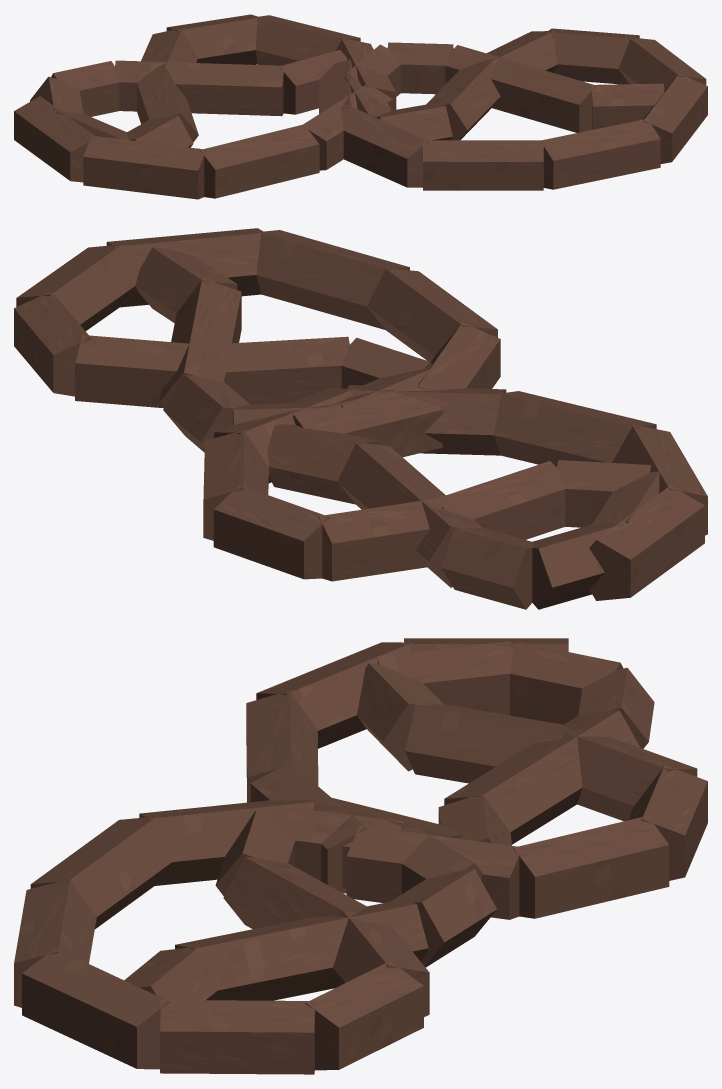
The model's file is chocpretzels.glb.
3 renders of one model, top to bottom at view 1: azimuth 30°, elevation 25°; view 2: azimuth 150°, elevation 25°; view 3: azimuth 270°, elevation 25°, orthographic. The views are drawn at different scales.
Parts seen in each view (by area): view 1: block_bent chocolate-coated pretzel twist 13 (×2), block_bent chocolate-coated pretzel twist 2 (×2), block_bent chocolate-coated pretzel twist 1 (×2), block_bent chocolate-coated pretzel twist 3 (×2), block_bent chocolate-coated pretzel twist 6 (×2), block_bent chocolate-coated pretzel twist 5 (×2), block_bent chocolate-coated pretzel twist 8 (×2), block_bent chocolate-coated pretzel twist 0 (×2), block_bent chocolate-coated pretzel twist 14 (×2), block_bent chocolate-coated pretzel twist 12 (×2), block_bent chocolate-coated pretzel twist 4 (×2), block_bent chocolate-coated pretzel twist 9 (×2) (+3 smaller); view 2: block_bent chocolate-coated pretzel twist 2 (×2), block_bent chocolate-coated pretzel twist 0 (×2), block_bent chocolate-coated pretzel twist 7 (×2), block_bent chocolate-coated pretzel twist 8 (×2), block_bent chocolate-coated pretzel twist 3 (×2), block_bent chocolate-coated pretzel twist 6 (×2), block_bent chocolate-coated pretzel twist 13 (×2), block_bent chocolate-coated pretzel twist 12 (×2), block_bent chocolate-coated pretzel twist 5 (×2), block_bent chocolate-coated pretzel twist 14 (×2), block_bent chocolate-coated pretzel twist 1 (×2), block_bent chocolate-coated pretzel twist 4 (×2) (+3 smaller); view 3: block_bent chocolate-coated pretzel twist 5 (×2), block_bent chocolate-coated pretzel twist 13 (×2), block_bent chocolate-coated pretzel twist 4 (×2), block_bent chocolate-coated pretzel twist 8 (×2), block_bent chocolate-coated pretzel twist 6 (×2), block_bent chocolate-coated pretzel twist 2 (×2), block_bent chocolate-coated pretzel twist 1 (×2), block_bent chocolate-coated pretzel twist 7 (×2), block_bent chocolate-coated pretzel twist 10 (×2), block_bent chocolate-coated pretzel twist 3 (×2), block_bent chocolate-coated pretzel twist 12 (×2), block_bent chocolate-coated pretzel twist 11 (×2) (+3 smaller).
Boxes of the visible parts, x1=… form: block_bent chocolate-coated pretzel twist 13 (×2): x1=115, y1=45, x2=596, y2=132; block_bent chocolate-coated pretzel twist 2 (×2): x1=200, y1=124, x2=543, y2=198; block_bent chocolate-coated pretzel twist 1 (×2): x1=83, y1=105, x2=429, y2=199; block_bent chocolate-coated pretzel twist 3 (×2): x1=301, y1=83, x2=660, y2=189; block_bent chocolate-coated pretzel twist 6 (×2): x1=166, y1=14, x2=639, y2=84; block_bent chocolate-coated pretzel twist 5 (×2): x1=254, y1=15, x2=706, y2=90; block_bent chocolate-coated pretzel twist 8 (×2): x1=137, y1=60, x2=500, y2=142; block_bent chocolate-coated pretzel twist 0 (×2): x1=14, y1=59, x2=352, y2=182; block_bent chocolate-coated pretzel twist 14 (×2): x1=279, y1=50, x2=664, y2=129; block_bent chocolate-coated pretzel twist 12 (×2): x1=51, y1=42, x2=453, y2=116; block_bent chocolate-coated pretzel twist 4 (×2): x1=335, y1=38, x2=707, y2=163; block_bent chocolate-coated pretzel twist 9 (×2): x1=127, y1=104, x2=452, y2=147; block_bent chocolate-coated pretzel twist 2 (×2): x1=367, y1=268, x2=656, y2=467; block_bent chocolate-coated pretzel twist 0 (×2): x1=293, y1=383, x2=704, y2=600; block_bent chocolate-coated pretzel twist 7 (×2): x1=75, y1=335, x2=442, y2=581; block_bent chocolate-coated pretzel twist 8 (×2): x1=202, y1=336, x2=565, y2=539; block_bent chocolate-coated pretzel twist 3 (×2): x1=256, y1=230, x2=506, y2=455; block_bent chocolate-coated pretzel twist 6 (×2): x1=14, y1=291, x2=329, y2=579; block_bent chocolate-coated pretzel twist 13 (×2): x1=159, y1=278, x2=482, y2=587; block_bent chocolate-coated pretzel twist 12 (×2): x1=163, y1=374, x2=532, y2=609; block_bent chocolate-coated pretzel twist 5 (×2): x1=16, y1=244, x2=268, y2=540; block_bent chocolate-coated pretzel twist 14 (×2): x1=135, y1=247, x2=377, y2=504; block_bent chocolate-coated pretzel twist 1 (×2): x1=417, y1=322, x2=707, y2=535; block_bent chocolate-coated pretzel twist 4 (×2): x1=106, y1=228, x2=354, y2=483; block_bent chocolate-coated pretzel twist 5 (×2): x1=160, y1=815, x2=669, y2=1074; block_bent chocolate-coated pretzel twist 13 (×2): x1=175, y1=710, x2=640, y2=1000; block_bent chocolate-coated pretzel twist 4 (×2): x1=22, y1=825, x2=522, y2=1069; block_bent chocolate-coated pretzel twist 8 (×2): x1=223, y1=704, x2=572, y2=928; block_bent chocolate-coated pretzel twist 6 (×2): x1=305, y1=765, x2=707, y2=1070; block_bent chocolate-coated pretzel twist 2 (×2): x1=30, y1=690, x2=318, y2=928; block_bent chocolate-coated pretzel twist 1 (×2): x1=139, y1=642, x2=412, y2=885; block_bent chocolate-coated pretzel twist 7 (×2): x1=333, y1=731, x2=697, y2=1016; block_bent chocolate-coated pretzel twist 10 (×2): x1=269, y1=641, x2=513, y2=888; block_bent chocolate-coated pretzel twist 3 (×2): x1=14, y1=762, x2=367, y2=1007; block_bent chocolate-coated pretzel twist 12 (×2): x1=391, y1=667, x2=654, y2=967; block_bent chocolate-coated pretzel twist 11 (×2): x1=401, y1=642, x2=623, y2=893.
Size of the model in its own units: 0.089 by 0.00715 by 0.0662.
Materials: 1 (1 with a texture image).
